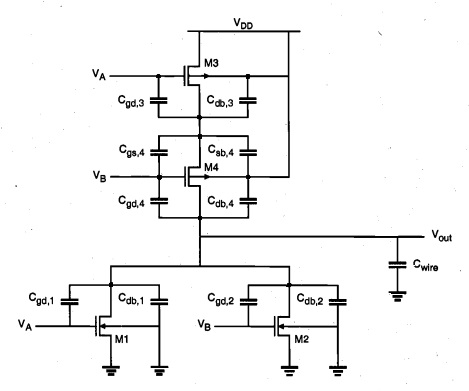capacity: (384, 256, 412, 272), (235, 144, 261, 160), (148, 195, 176, 208), (326, 294, 350, 309), (147, 295, 174, 308), (235, 95, 262, 108), (236, 295, 261, 309), (145, 147, 174, 159), (58, 295, 82, 309), (235, 194, 260, 207), (147, 95, 170, 107)
gnd: (98, 361, 126, 379), (148, 359, 170, 381), (325, 360, 350, 379), (277, 361, 301, 378), (386, 287, 408, 305)
nmos: (90, 311, 119, 341), (268, 312, 298, 340)
pmos: (180, 161, 216, 193), (179, 61, 212, 91)
